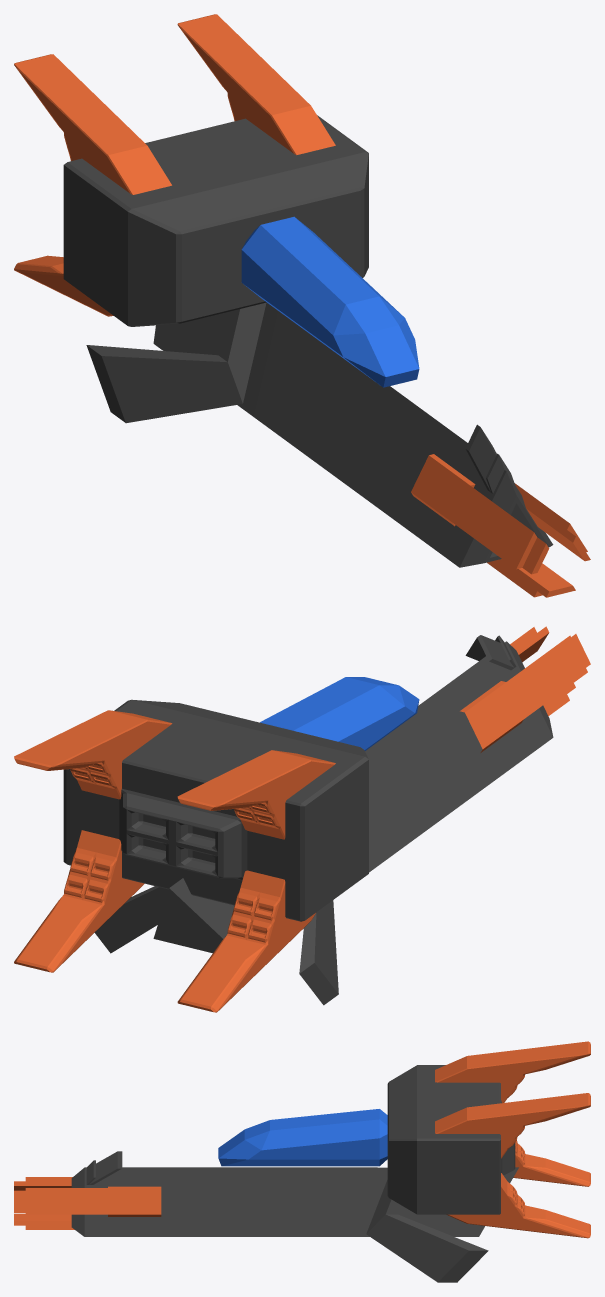
File: ShipDold.fbx
3 renders of one model, top to bottom at view 1: azimuth 30°, elevation 25°; view 2: azimuth 150°, elevation 25°; view 3: azimuth 270°, elevation 25°, orthographic. The views are drawn at different scales.
Parts seen in each view (by area): view 1: Cylinder, Cube.001, Cube.002, Cube, Cylinder.001; view 2: Cube.001, Cube.002, Cylinder, Cylinder.001, Cube; view 3: Cylinder, Cube.001, Cube.002, Cube, Cylinder.001.
Part boxes in pixels (x1,y1,x2,y2): Cylinder: (86,302,553,567); Cube.001: (63,115,368,326); Cube.002: (14,14,335,316); Cube: (241,216,419,387); Cylinder.001: (411,454,590,597); Cube.001: (63,699,368,921); Cube.002: (14,710,335,1012); Cylinder: (94,635,553,1005); Cylinder.001: (460,626,590,752); Cube: (260,677,419,750); Cylinder: (71,1151,518,1282); Cube.001: (387,1065,515,1214); Cube.002: (435,1041,590,1238); Cube: (218,1109,387,1166); Cylinder.001: (14,1177,161,1229).
Size of the model in its own units: 671 by 726 by 2158.
